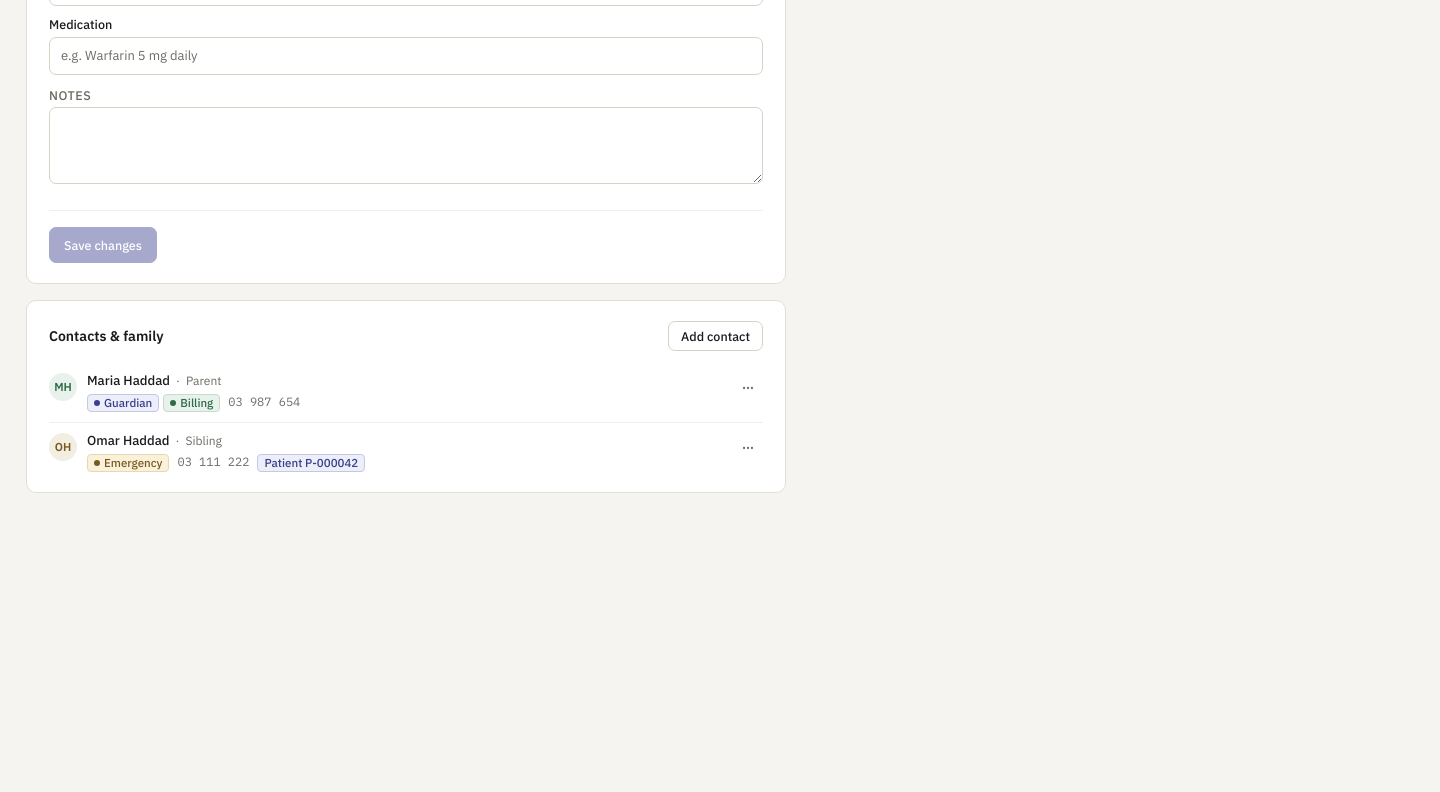
Scenario: Contacts & family card › removes a contact after confirming, through DELETE, and focuses the next row
(page scrolled)
Press the mouse on the button named "Contact actions for Maria Haddad" at point(748, 388), box [733,373,763,403]
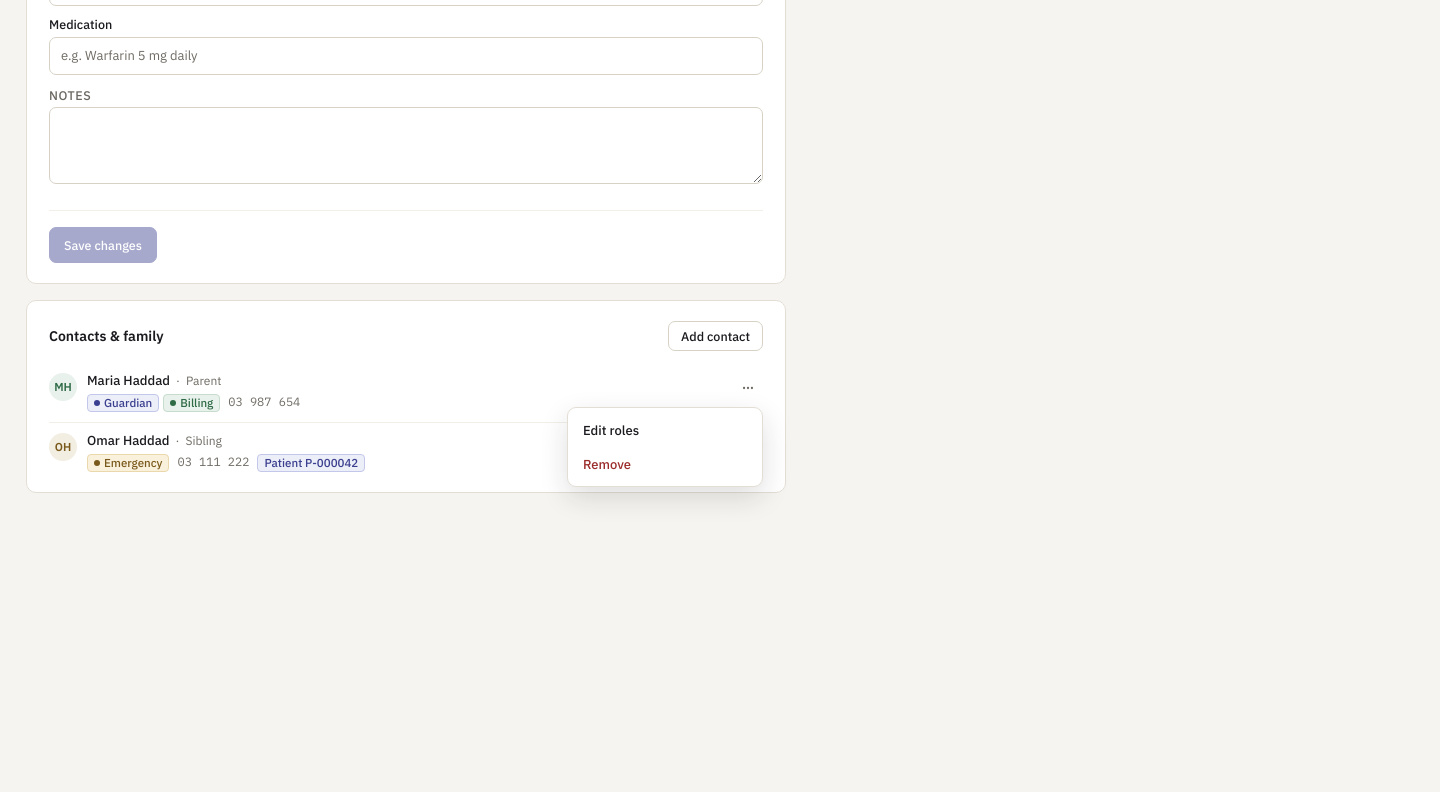
Click the menu item "Remove".
click(607, 464)  # box [583,456,631,472]
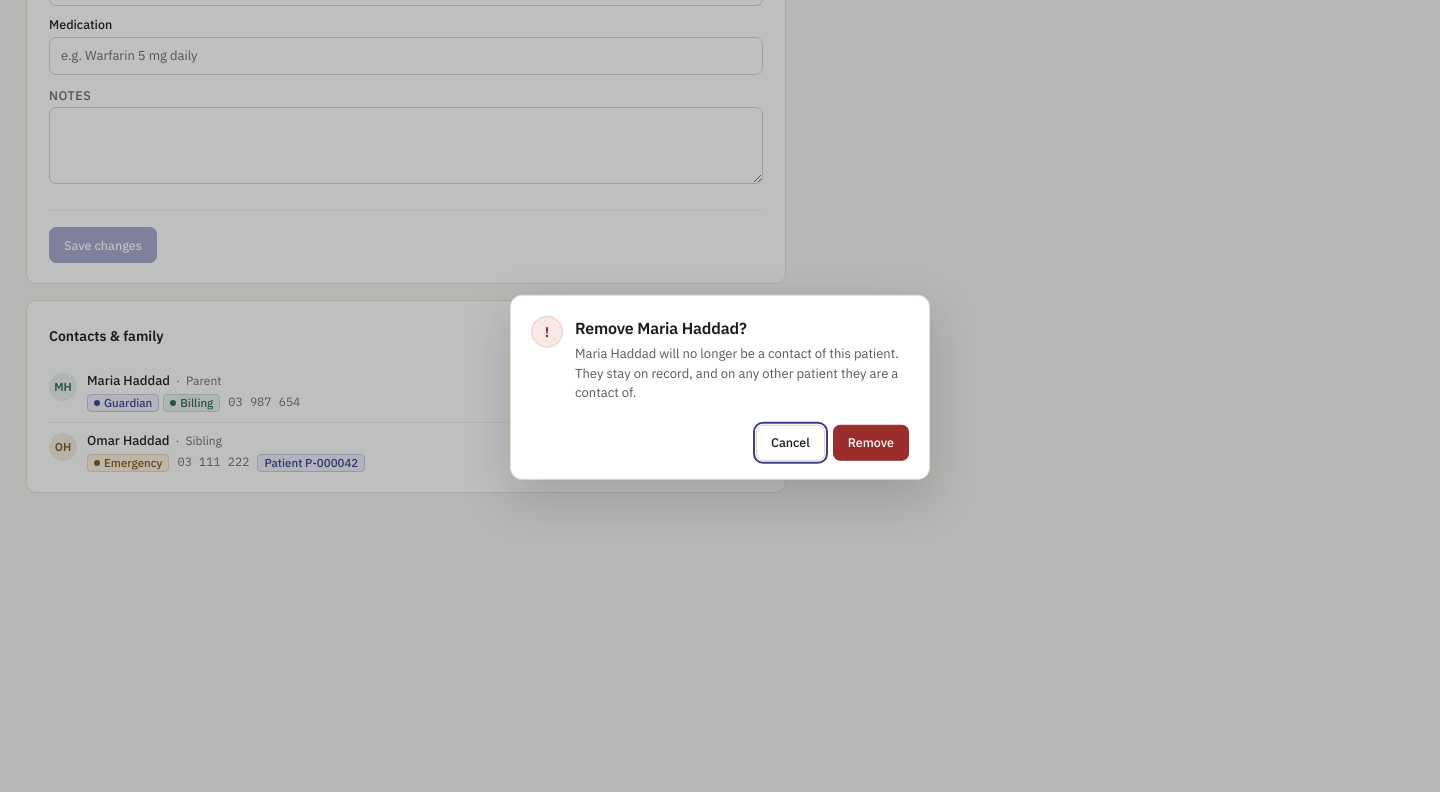
Expected: the heading "Remove Maria Haddad?" is shown, [575,318,747,338]
Click the button "Remove".
click(871, 442)  # box [833,424,909,460]
(page scrolled)
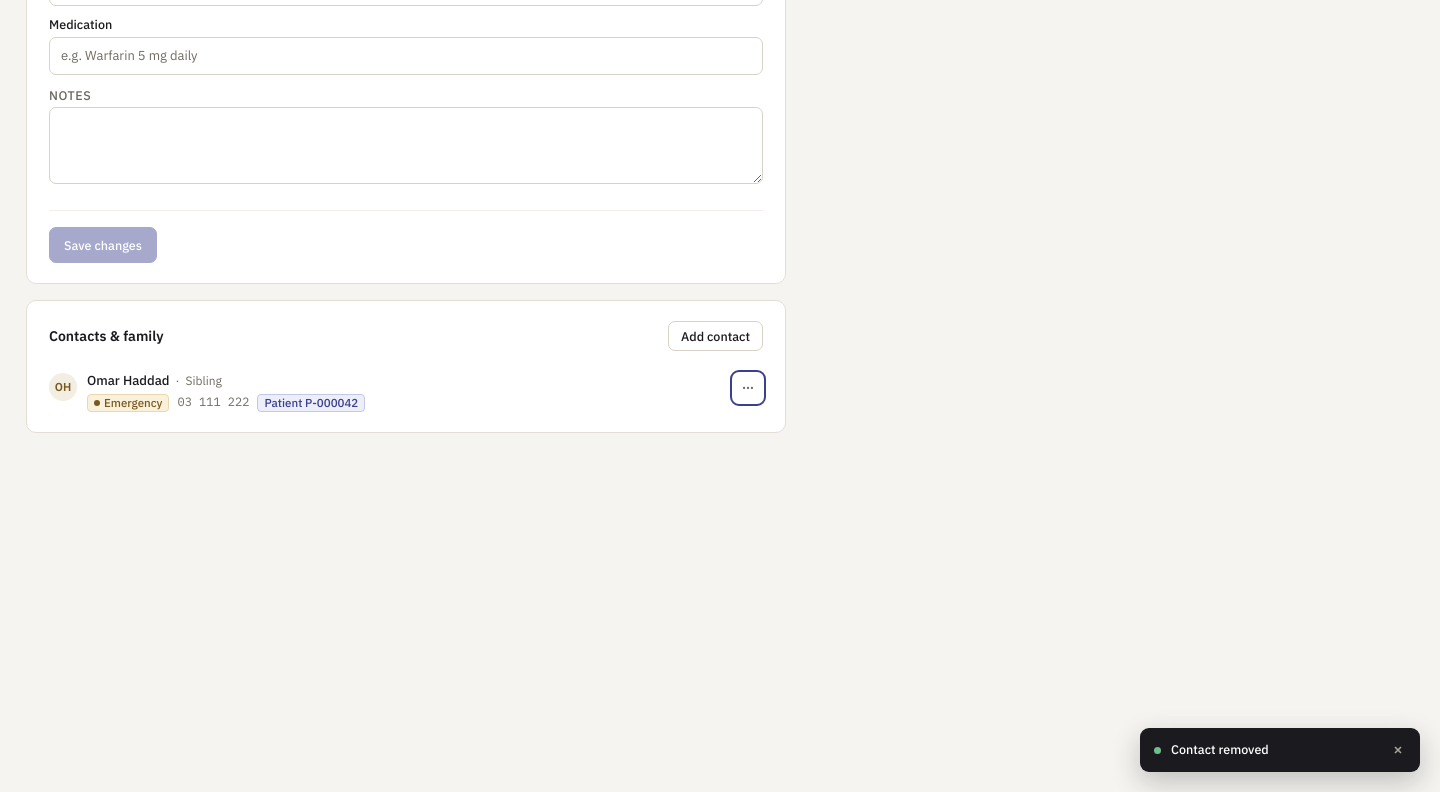
Expected: the text "Contact removed" is shown, [1171,741,1269,757]
